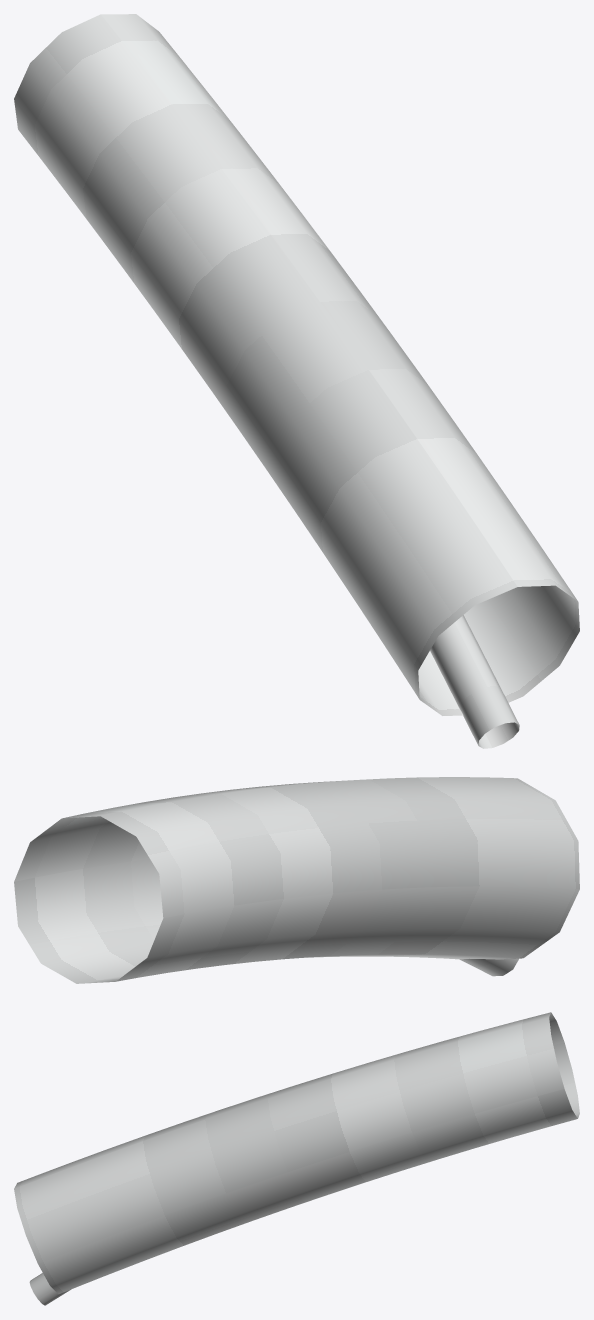
Rendered from luminairearm_laupsweep12ft_c4.obj.
3 renders of one model, top to bottom at view 1: azimuth 30°, elevation 25°; view 2: azimuth 150°, elevation 25°; view 3: azimuth 270°, elevation 25°, orthographic. The views are drawn at different scales.
Visible parts, largest first — view 1: luminairearm_laupsweep12ft_c4; view 2: luminairearm_laupsweep12ft_c4; view 3: luminairearm_laupsweep12ft_c4.
Part boxes in pixels (x1,y1,x2,y2): luminairearm_laupsweep12ft_c4: (14,14,579,748); luminairearm_laupsweep12ft_c4: (14,777,579,983); luminairearm_laupsweep12ft_c4: (14,1012,579,1305).
Bounding box in the file's own units: 0.2275 × 0.6006 × 1.07.
